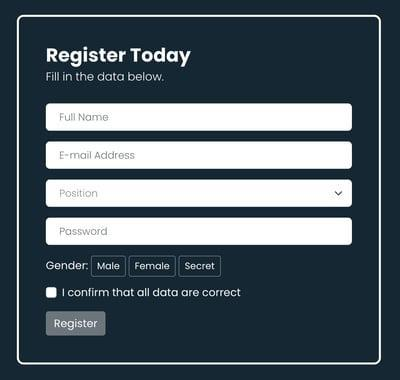button: (47, 313, 107, 339), (131, 255, 177, 278), (179, 257, 221, 279), (92, 256, 127, 279)
checkbox: (47, 287, 58, 301)
dropdown: (47, 180, 352, 209)
input: (47, 102, 353, 133), (47, 142, 354, 171), (47, 219, 352, 246)
label: (61, 286, 245, 304), (46, 261, 91, 273)
